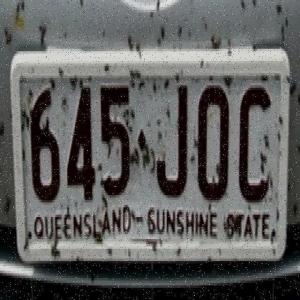Plate: (6, 24, 290, 276)
